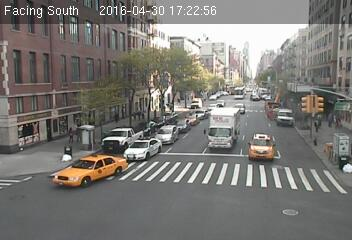neg: (31, 183, 50, 208), (121, 32, 140, 57), (200, 171, 218, 195), (222, 129, 239, 152), (145, 179, 161, 200), (221, 58, 237, 79), (278, 54, 294, 74), (33, 78, 48, 98), (182, 128, 197, 148), (319, 49, 333, 69), (31, 123, 45, 142), (69, 39, 83, 58), (145, 71, 159, 88), (262, 143, 275, 161), (284, 105, 297, 123), (71, 182, 84, 200), (309, 97, 322, 114), (315, 142, 328, 159), (113, 132, 126, 148), (290, 205, 302, 221), (90, 73, 101, 88), (66, 149, 77, 163)
pos: (64, 125, 78, 144)
